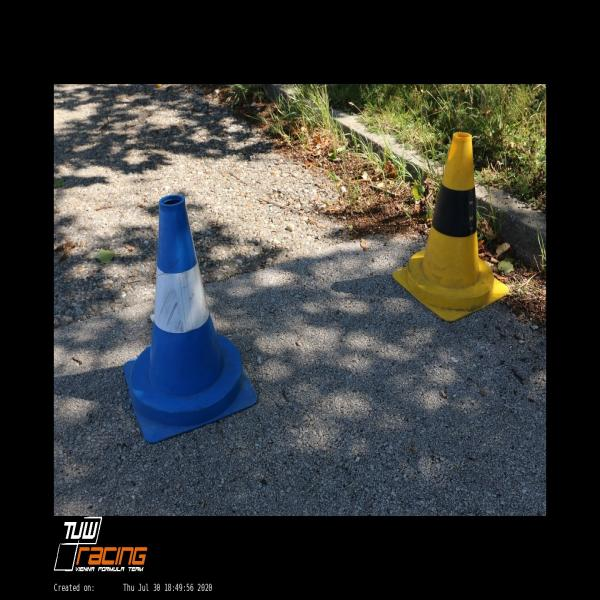blue_cone: (124, 194, 257, 443)
yellow_cone: (394, 132, 508, 320)
